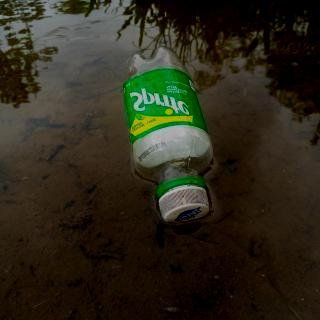bottle: (120, 43, 217, 227)
